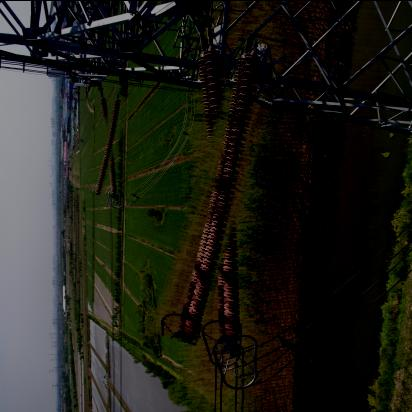insulator: (172, 37, 267, 347), (89, 94, 127, 196)
